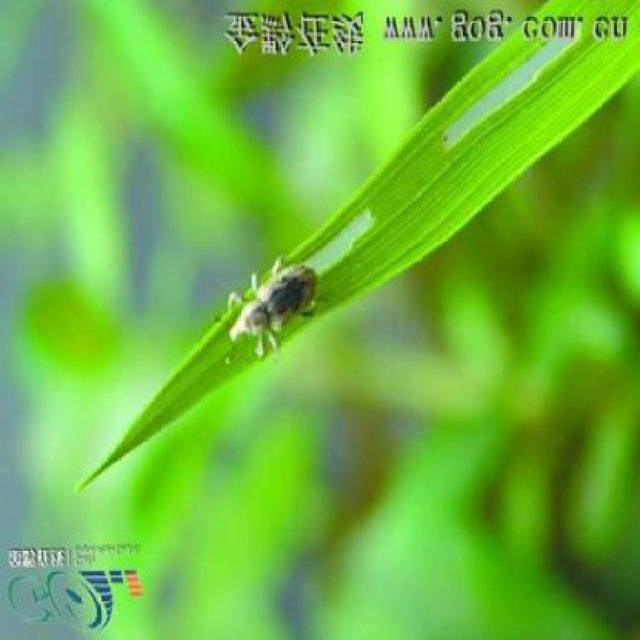rice-bug: (221, 246, 327, 365)
